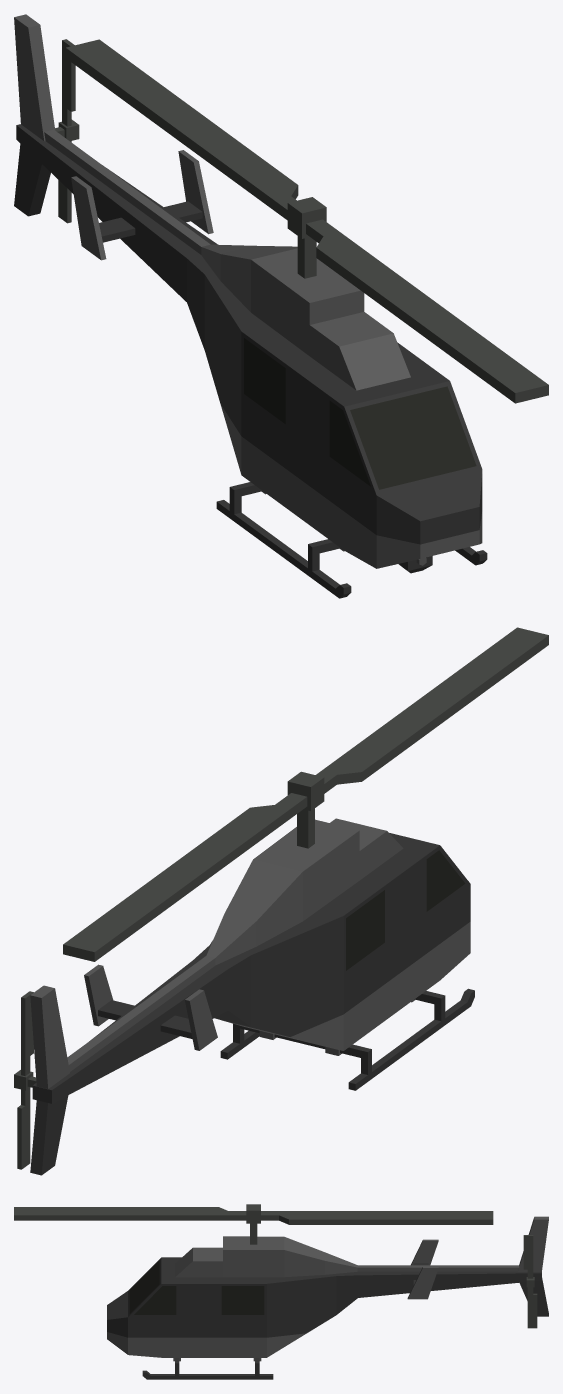
Rendered from Veh_SWAT_Helicopter.obj.
3 renders of one model, top to bottom at view 1: azimuth 30°, elevation 25°; view 2: azimuth 150°, elevation 25°; view 3: azimuth 270°, elevation 25°, orthographic. The views are drawn at different scales.
Bounding box in the file's own units: 1.02 × 2.05 × 6.44.
